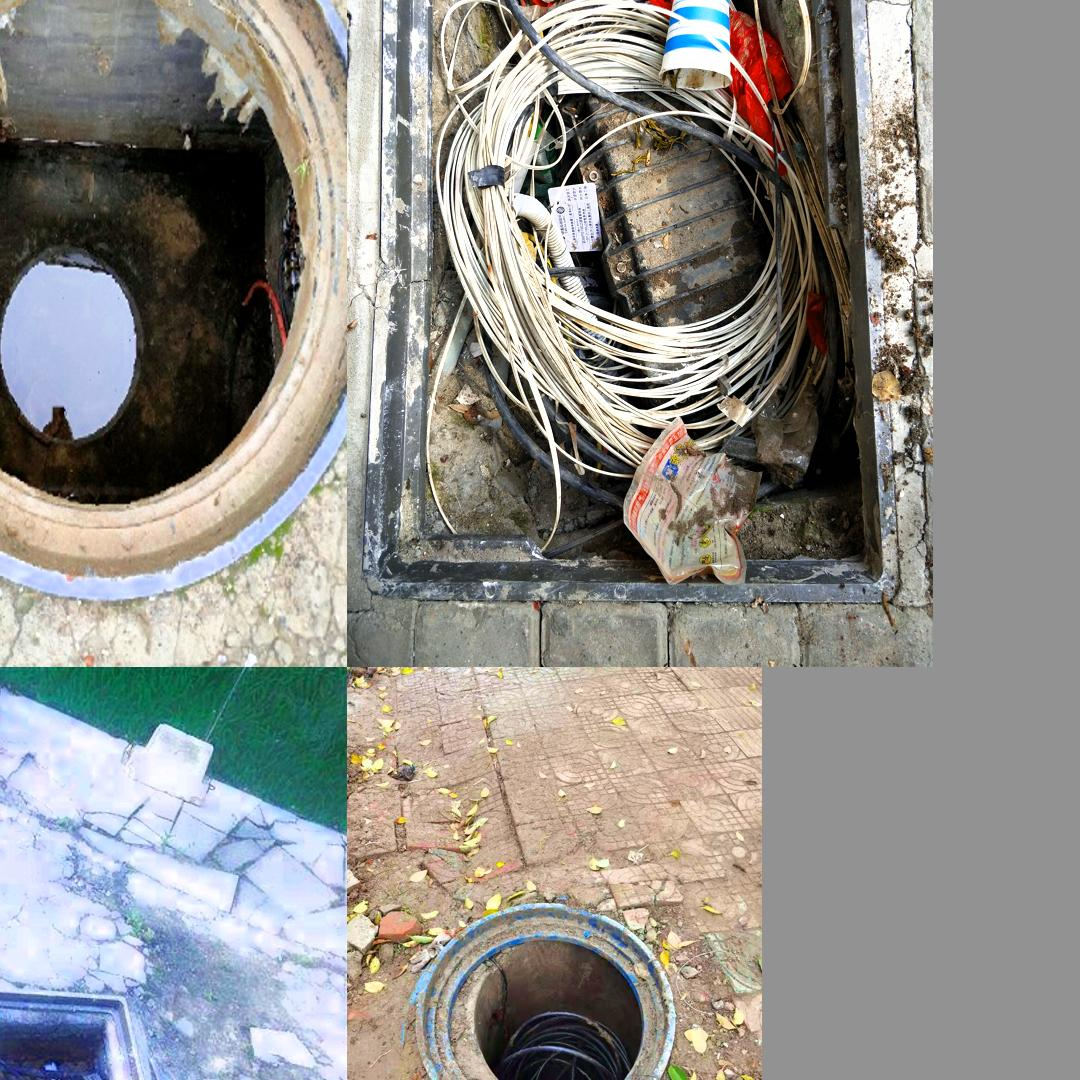lose: (361, 0, 896, 611), (0, 0, 342, 600), (412, 899, 670, 1080), (0, 973, 185, 1080)
